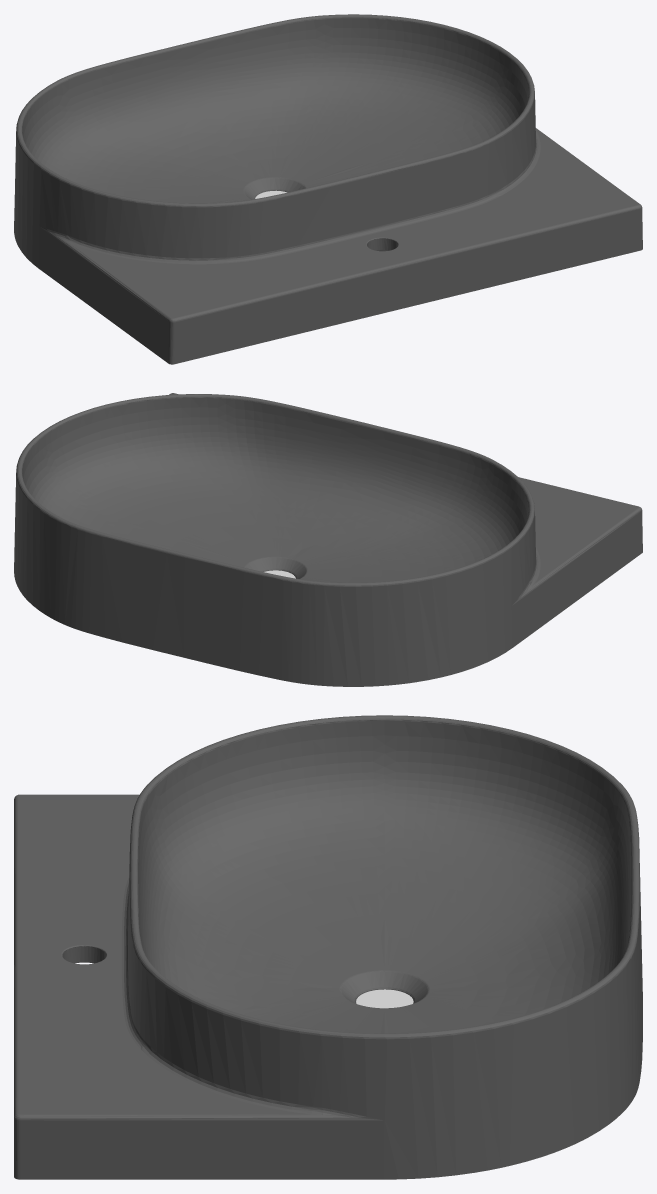
The model's file is AEC_64429.glb.
3 views of the same model, one above another, from view 1: azimuth 30°, elevation 25°; view 2: azimuth 150°, elevation 25°; view 3: azimuth 270°, elevation 25° (orthographic). The views are drawn at different scales.
Parts seen in each view (by area): view 1: 0; view 2: 0; view 3: 0.
Boxes of the visible parts, left/top/right/bottom form: 0: left=14, top=14, right=642, bottom=364; 0: left=14, top=393, right=642, bottom=686; 0: left=14, top=715, right=642, bottom=1179.
Size of the model in its own units: 0.611 by 0.125 by 0.5005.
1 material, 1 textured.
